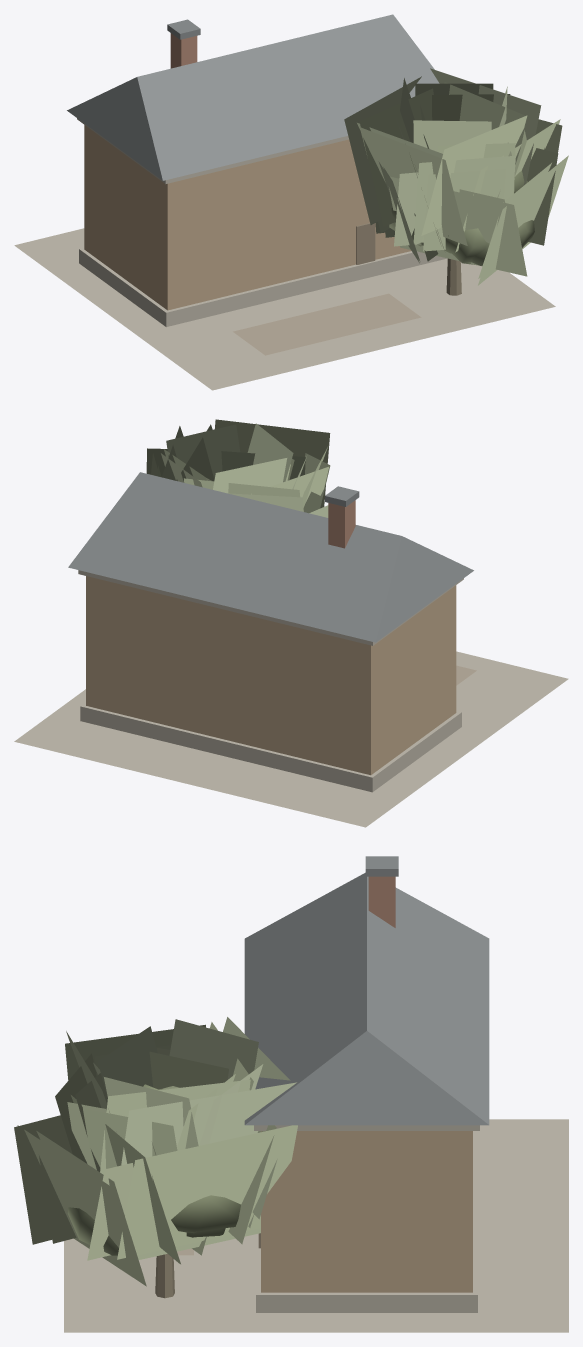
The picture shows the model from 3 angles, top to bottom: view 1: azimuth 30°, elevation 25°; view 2: azimuth 150°, elevation 25°; view 3: azimuth 270°, elevation 25°; orthographic projection. The views are drawn at different scales.
Visible parts, largest first — view 1: Near, Mid, Far; view 2: Near, Mid; view 3: Near, Mid.
Boxes of the visible parts, x1=… form: Near: x1=14, y1=14, x2=558, y2=390; Mid: x1=344, y1=68, x2=568, y2=285; Far: x1=391, y1=170, x2=527, y2=265; Near: x1=14, y1=419, x2=568, y2=827; Mid: x1=146, y1=426, x2=330, y2=517; Near: x1=34, y1=856, x2=568, y2=1332; Mid: x1=14, y1=1017, x2=297, y2=1286.
Size of the model in its own units: 2.21 by 1.38 by 2.2.
